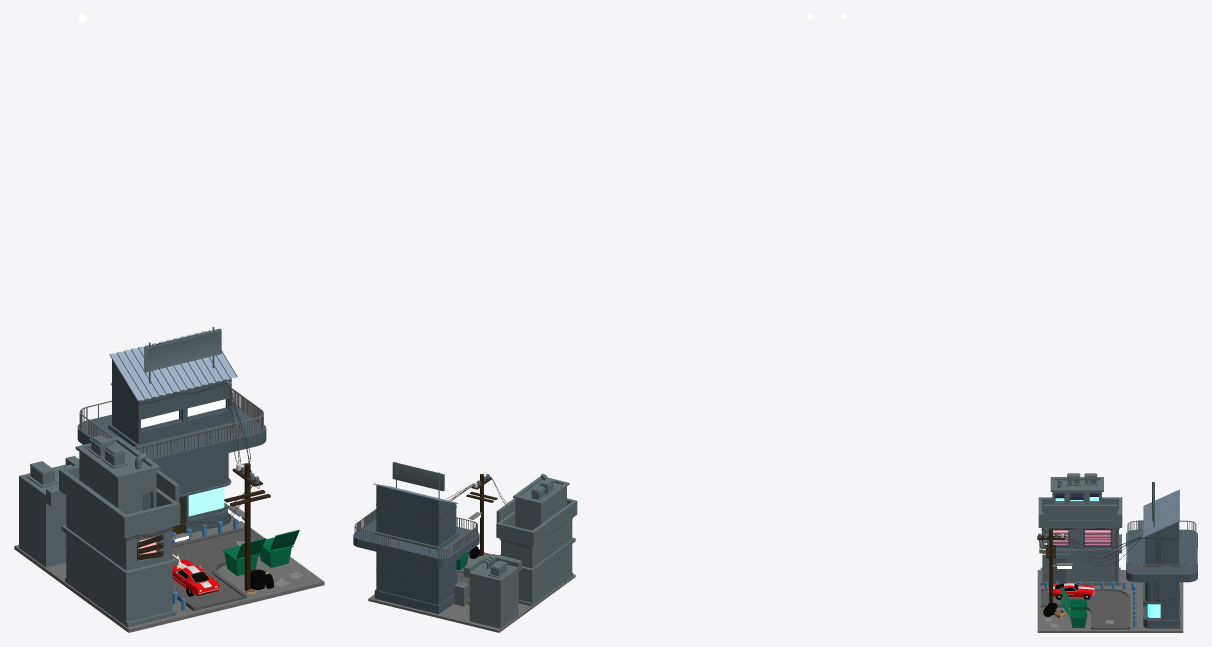
The model's file is cyber.glb.
3 views of the same model, side by side, from view 1: azimuth 30°, elevation 25°; view 2: azimuth 150°, elevation 25°; view 3: azimuth 270°, elevation 25° (orthographic). The views are drawn at different scales.
Parts seen in each view (by area): view 1: house2, house1, osnova, larek, Plane.005, house1.001, Cube.007, Circle.005, Cube.006, Cylinder.003, Cube.014, Cube.026 (+2 smaller); view 2: house1, house2, larek, osnova, house1.001, Cube.007; view 3: house2, house1, osnova, Cube.010, Plane.005, house1.001, Circle.005, Cylinder.006.
Part boxes in pixels (x1,y1,x2,y2): house2: (59,436,180,627); house1: (77,359,266,534); osnova: (14,515,324,632); larek: (19,456,79,567); Plane.005: (109,330,237,401); house1.001: (79,388,263,458); Cube.007: (144,328,221,372); Circle.005: (172,559,219,596); Cube.006: (61,524,178,577); Cylinder.003: (244,463,250,591); Cube.014: (259,537,293,567); Cube.026: (222,545,259,576); house1: (353,485,479,614); house2: (496,476,577,606); larek: (463,554,521,628); osnova: (368,552,575,632); house1.001: (354,509,477,558); Cube.007: (392,462,444,491); house2: (1038,477,1122,585); house1: (1126,521,1197,628); osnova: (1037,570,1183,632); Cube.010: (1044,504,1117,522); Plane.005: (1143,489,1179,537); house1.001: (1127,520,1196,573); Circle.005: (1048,582,1094,599); Cylinder.006: (1083,529,1112,547).
Bounding box in the file's own units: 17.82 × 32.05 × 20.85.
